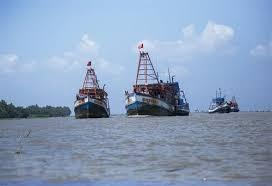Ship: (126, 45, 190, 117), (75, 63, 111, 119), (210, 90, 231, 114)
